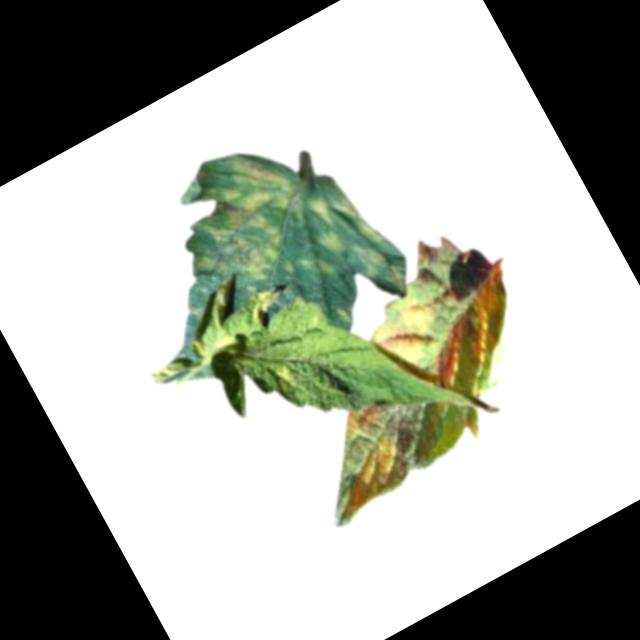Leaf_Mold: (159, 134, 329, 307), (406, 264, 543, 397), (303, 175, 413, 311), (305, 394, 423, 515), (358, 288, 452, 381), (268, 357, 304, 394)
